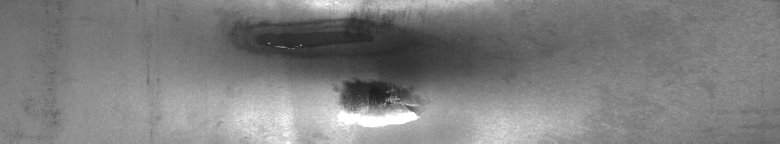ke: (232, 4, 464, 132)
